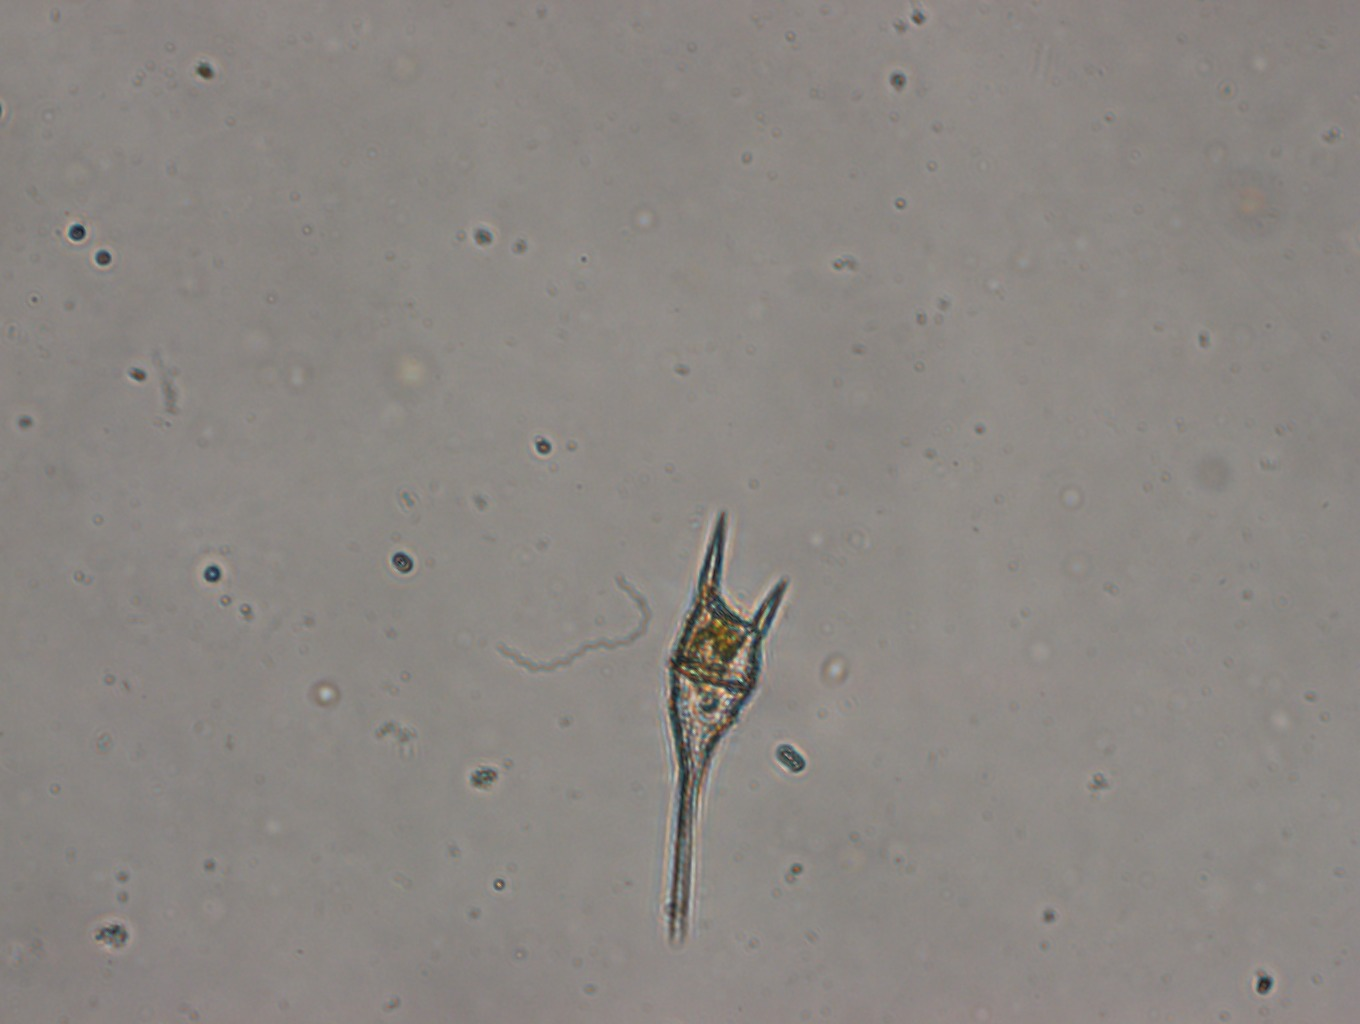ceratium furca: (649, 492, 794, 949)
